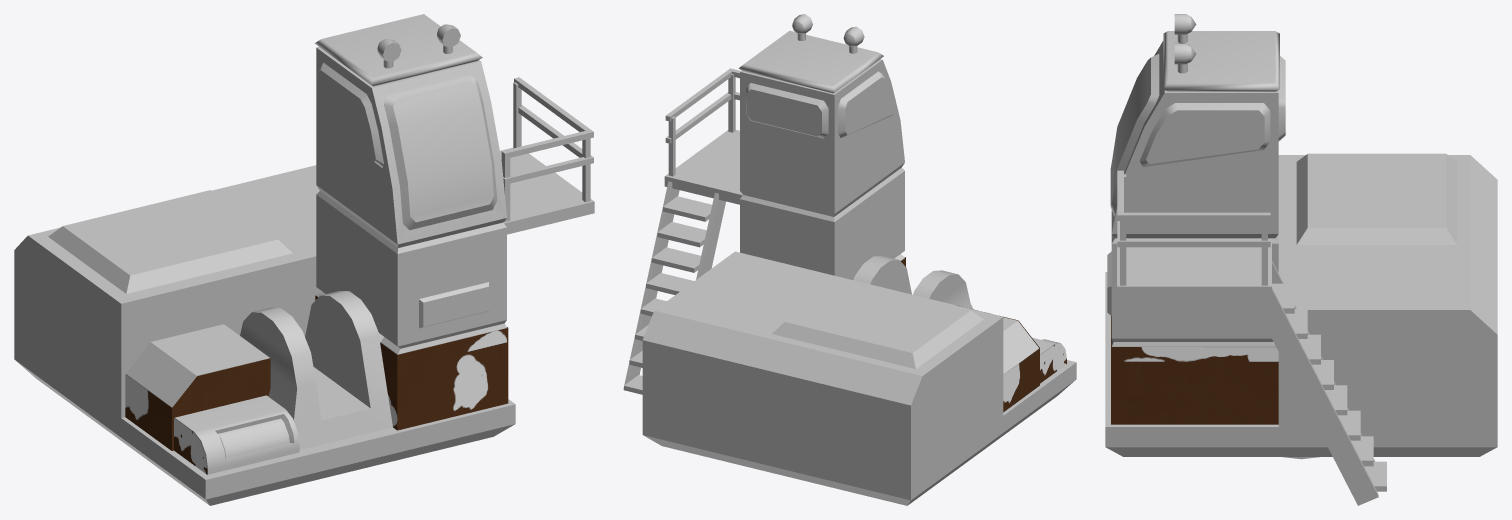
Rendered from Claw_crane_body_001.fbx.
3 views of the same model, side by side, from view 1: azimuth 30°, elevation 25°; view 2: azimuth 150°, elevation 25°; view 3: azimuth 270°, elevation 25° (orthographic). The views are drawn at different scales.
Visible parts, largest first — view 1: Claw_crane_body_001; view 2: Claw_crane_body_001; view 3: Claw_crane_body_001.
Boxes of the visible parts, left/top/right/bottom form: Claw_crane_body_001: left=14, top=14, right=594, bottom=505; Claw_crane_body_001: left=623, top=14, right=1076, bottom=505; Claw_crane_body_001: left=1105, top=14, right=1497, bottom=505.
Bounding box in the file's own units: 448 × 376 × 463.
